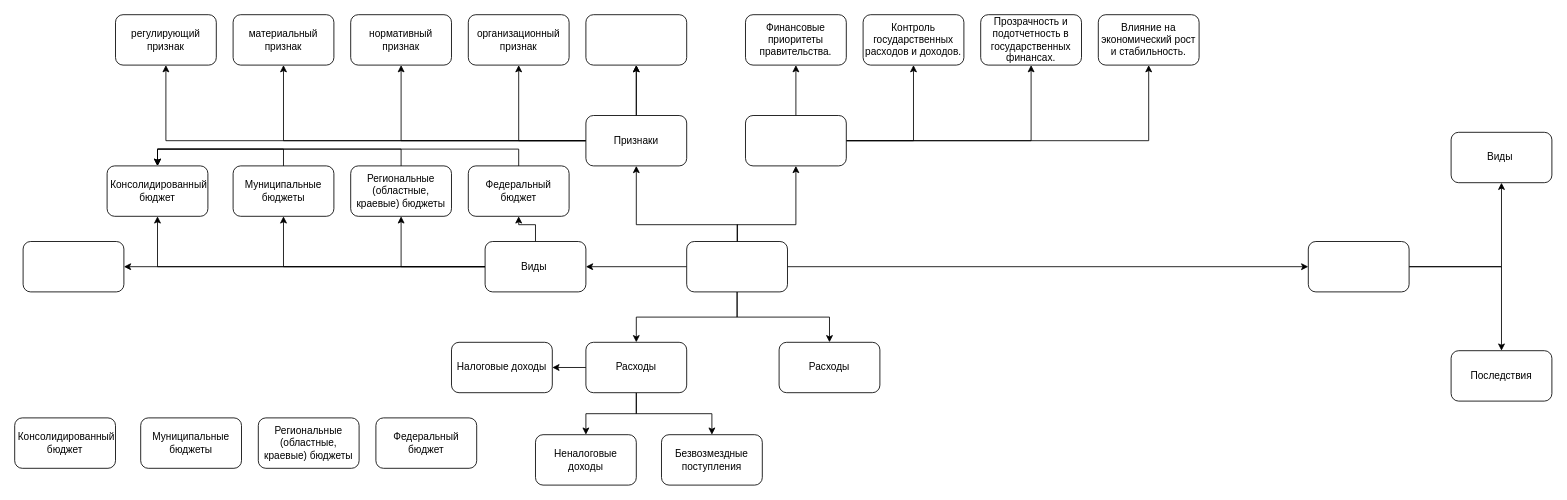
Some shapes in this 1567 by 500 pixel diagram are drawn without their labels. Each missing label, with the box of its shape:
Государственные внебюджетные фонды: (22, 241, 124, 292)
Государственный бюджет: (686, 241, 788, 292)
Дефицит Государственного бюджета: (1307, 241, 1409, 292)
Функции: (745, 115, 846, 166)
экономический признак: (585, 14, 687, 65)
